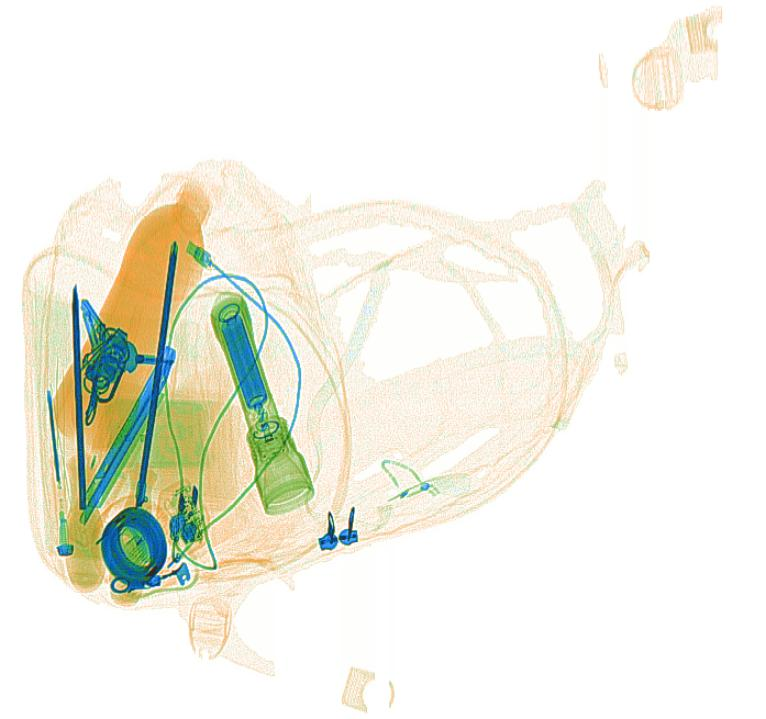battery: (220, 313, 268, 408)
knife: (82, 344, 178, 509)
